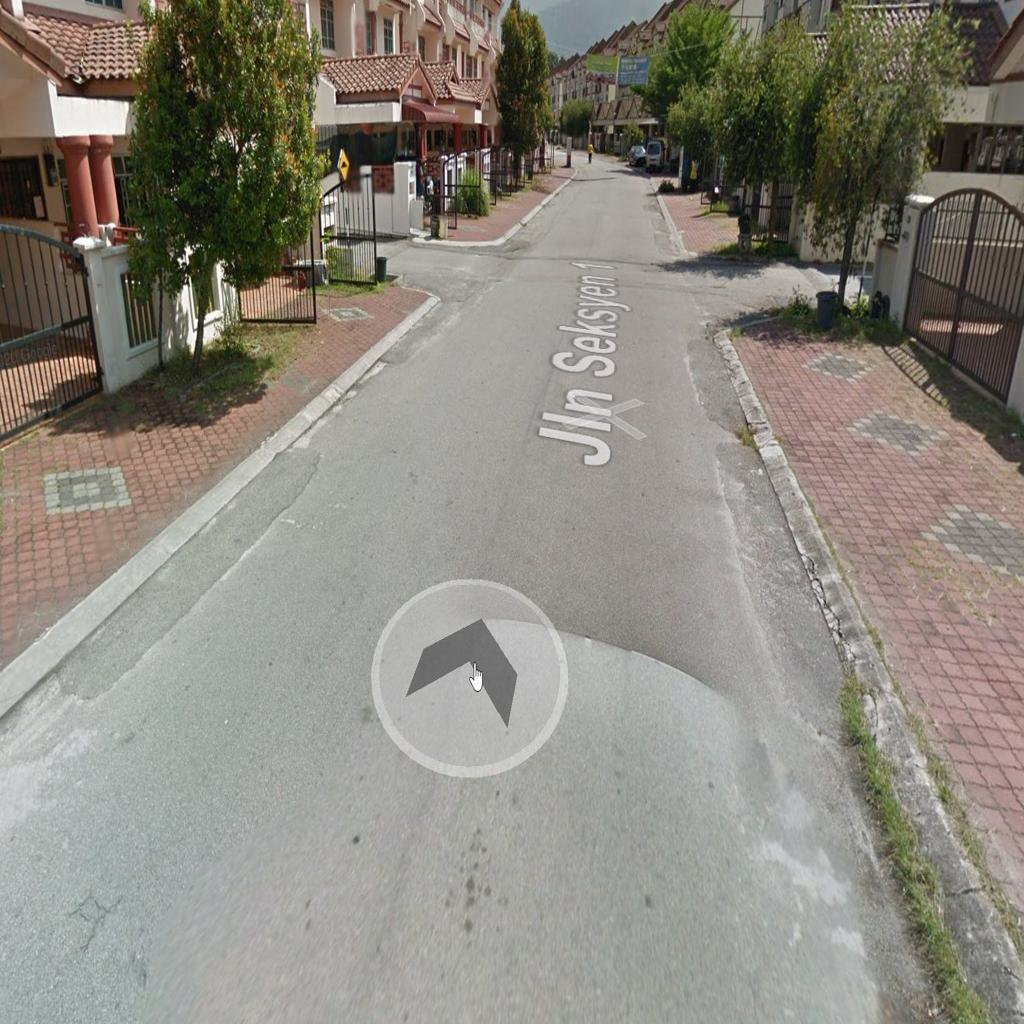Junction: (667, 240, 852, 347), (345, 202, 505, 320)
